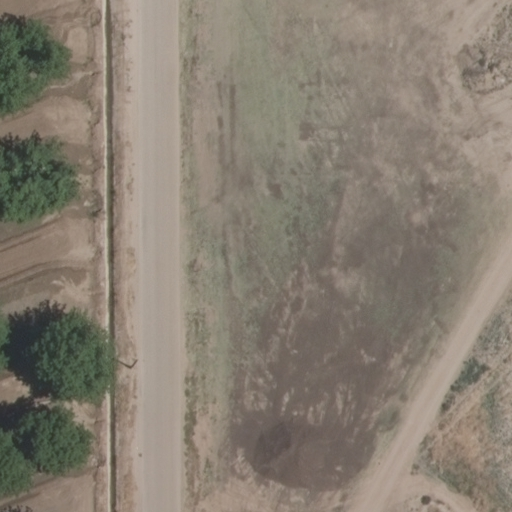DT: (123, 352, 142, 372)
